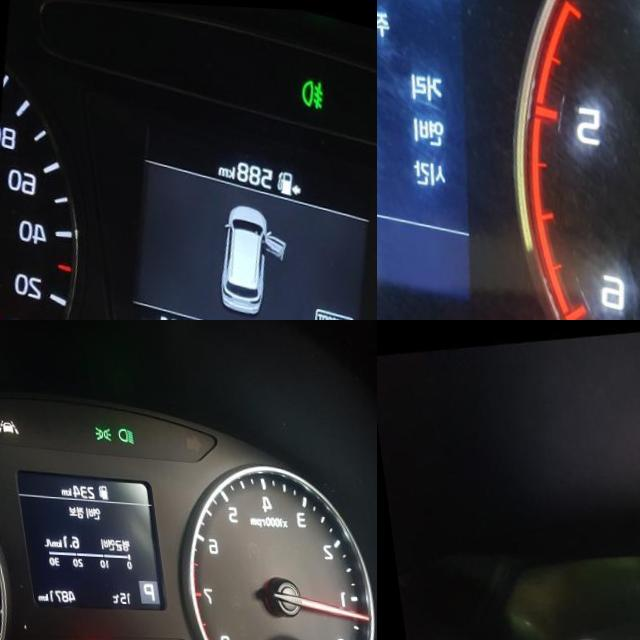FrontFogLight: (297, 71, 326, 106)
LaneCenteringOff: (0, 417, 14, 431)
Low beam: (113, 424, 131, 441)
SideLamp: (90, 422, 108, 438)
